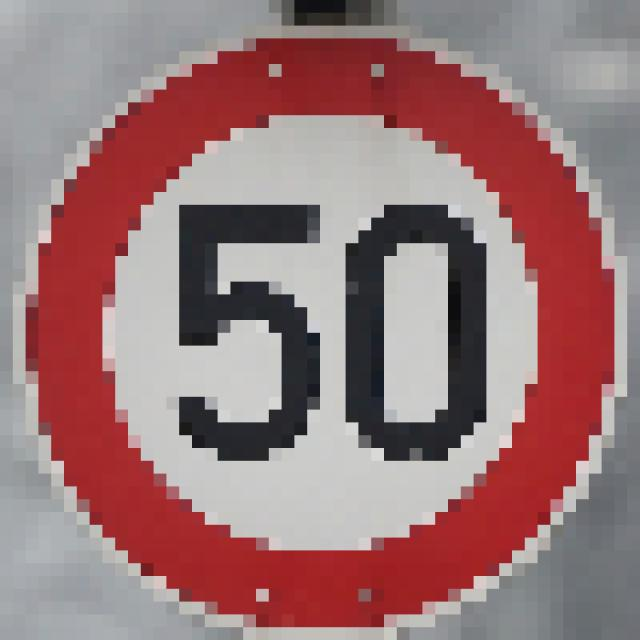Limite-50: (19, 24, 629, 640)
